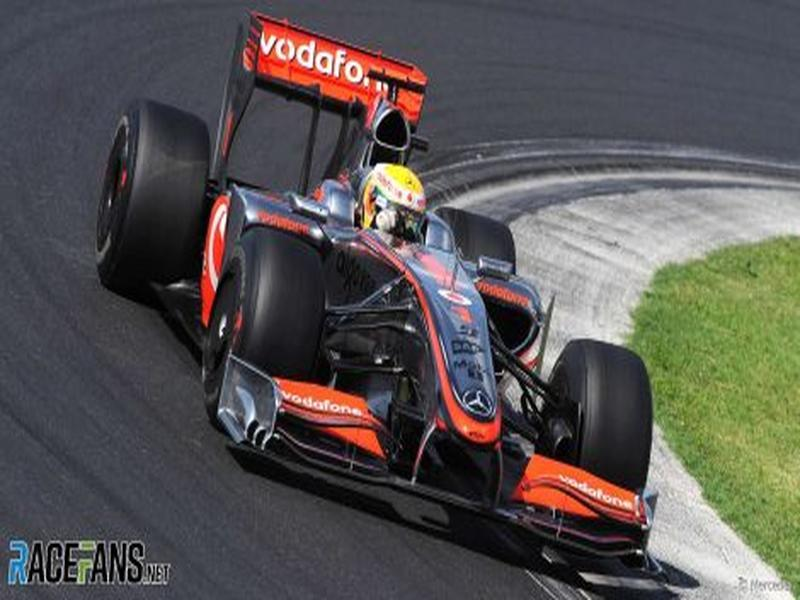f1: (91, 30, 687, 578)
